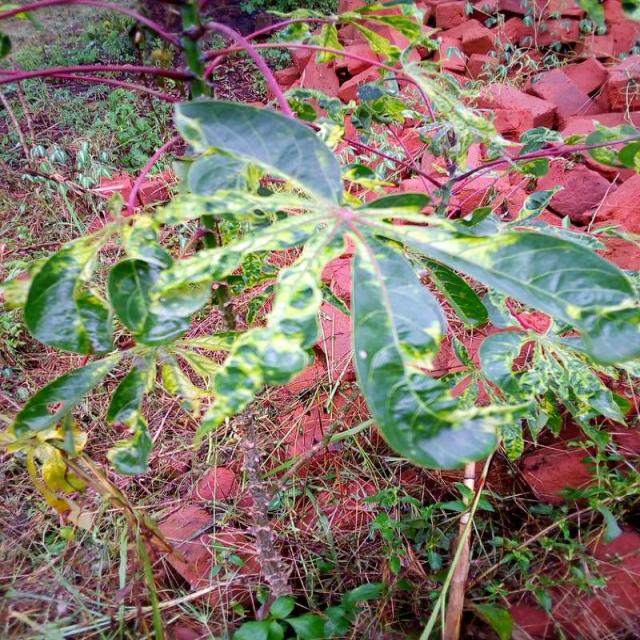cassava leaf: (4, 93, 638, 481), (349, 235, 502, 470), (171, 95, 345, 218)
